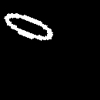chain: (5, 13, 52, 39)
